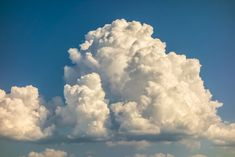Cumulus: (54, 13, 234, 147), (55, 72, 113, 141), (2, 81, 59, 143)
